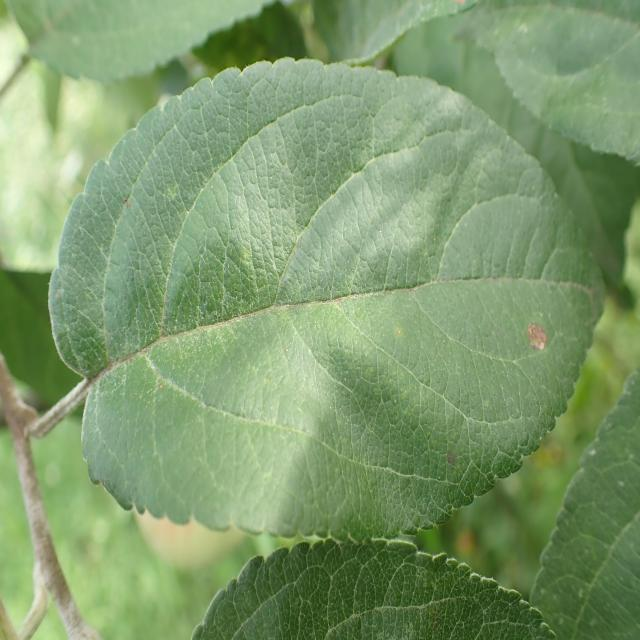frog-eye-leaf-spot: (48, 56, 607, 543)
